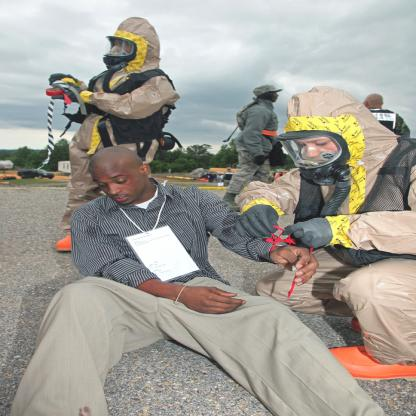Helmet: (271, 91, 374, 180), (95, 24, 153, 71)
